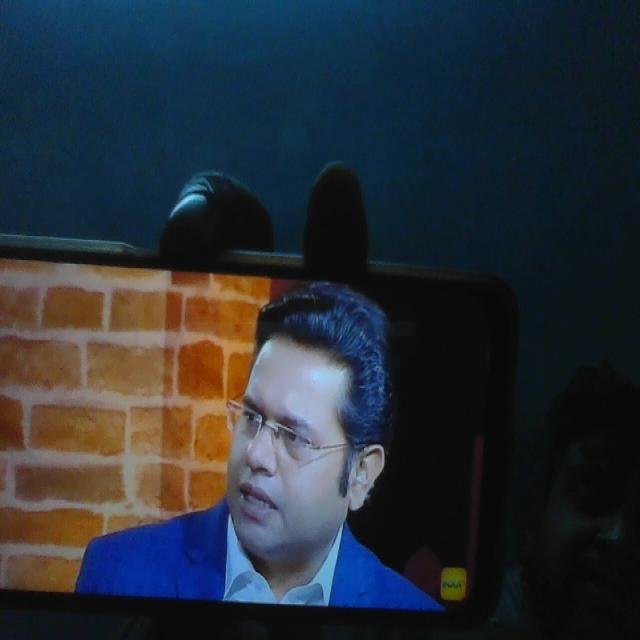fake: (221, 298, 365, 570)
